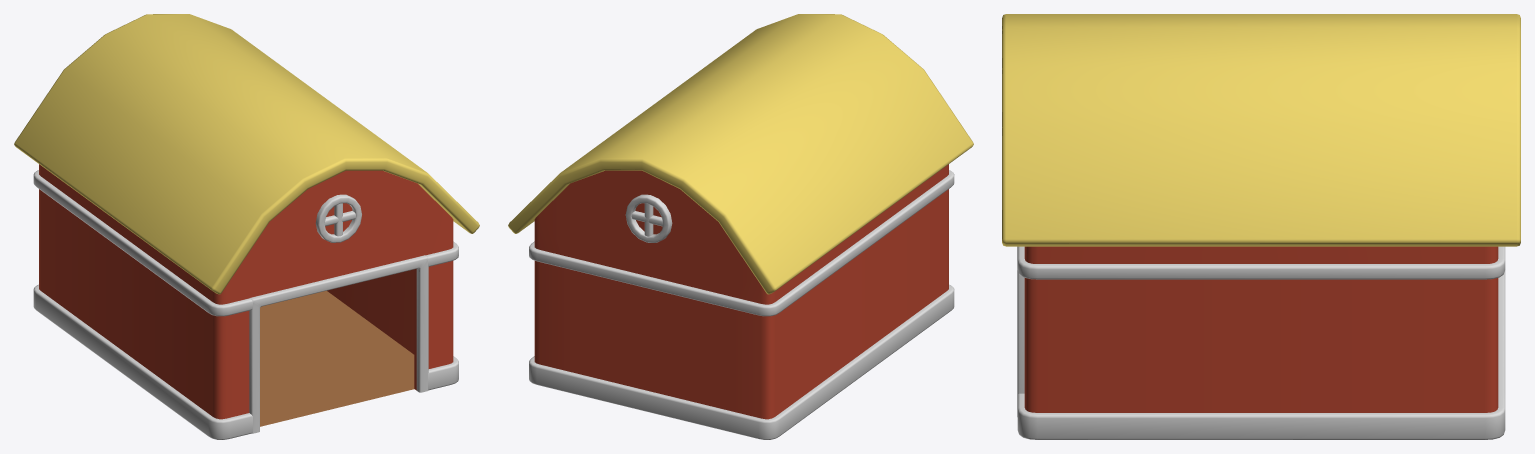
Rendered from Barn.fbx.
3 renders of one model, left to right at view 1: azimuth 30°, elevation 25°; view 2: azimuth 150°, elevation 25°; view 3: azimuth 270°, elevation 25°, orthographic. The views are drawn at different scales.
Visible parts, largest first — view 1: Barn; view 2: Barn; view 3: Barn.
Boxes of the visible parts, x1,y1,x2,y2 form: Barn: [14, 14, 479, 439]; Barn: [508, 14, 973, 439]; Barn: [1002, 14, 1520, 439].
Bounding box in the file's own units: 5444 × 4995 × 7019.
